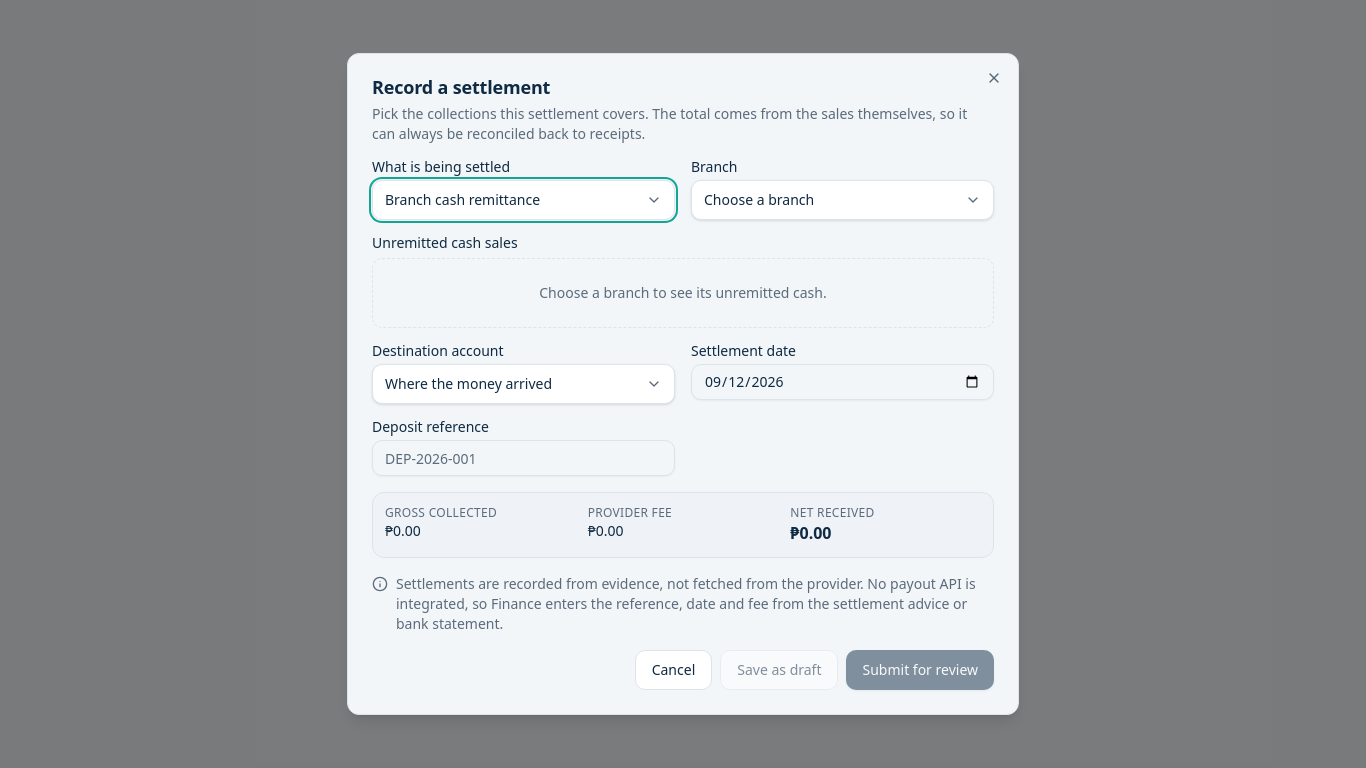
it: picking the collections › turns into Clear all once everything is ticked
Press ArrowDown in the dropdown labelled "branch", box [691, 180, 994, 220]
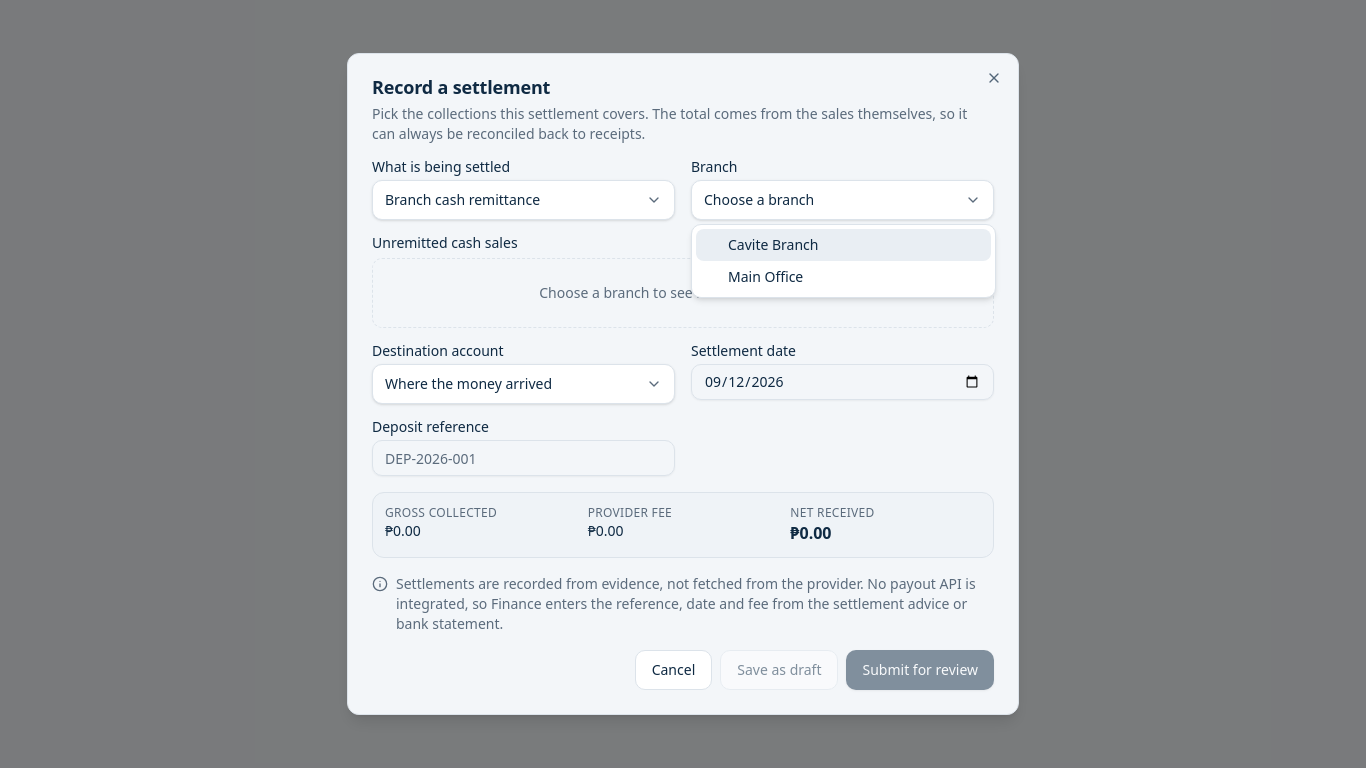
Click the option "Cavite Branch".
click(773, 244)  # box [696, 229, 991, 261]
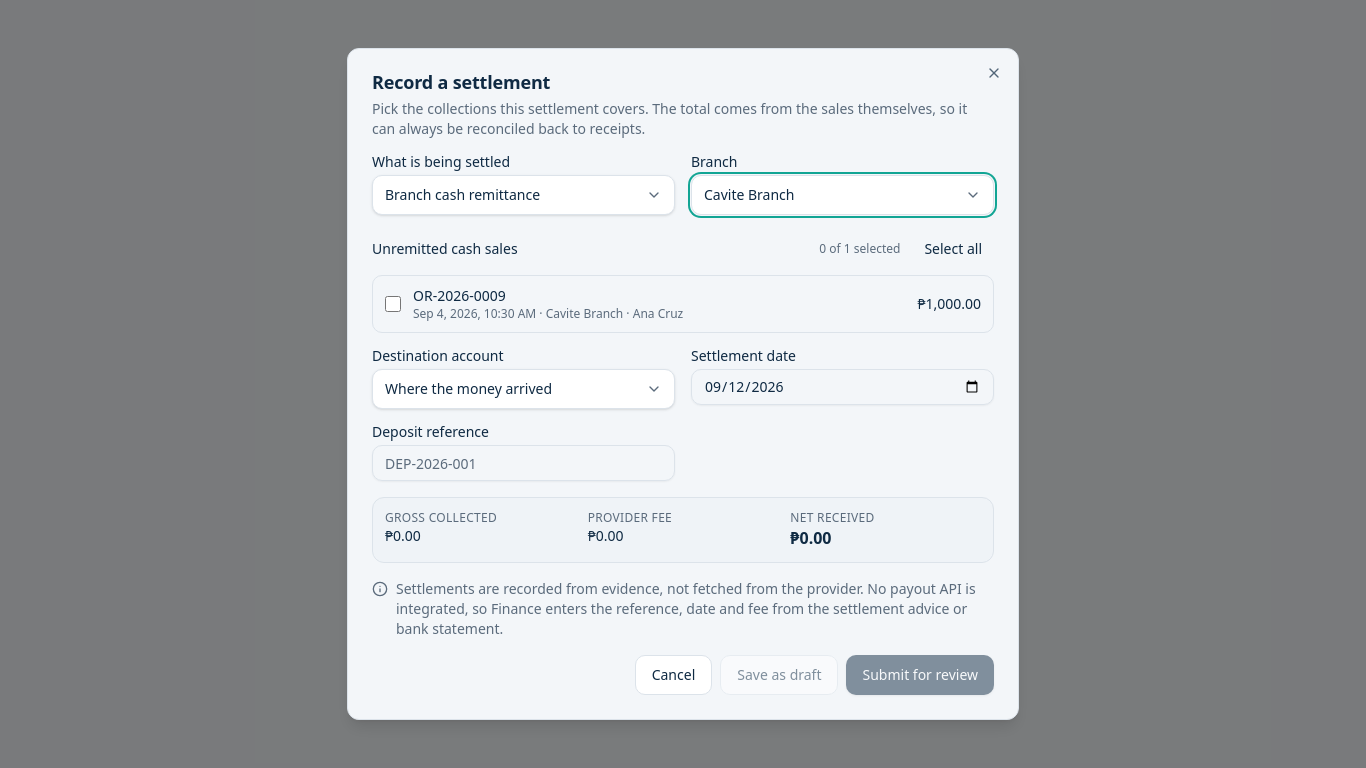
Click the button "Select all".
click(953, 249)  # box [912, 231, 994, 267]
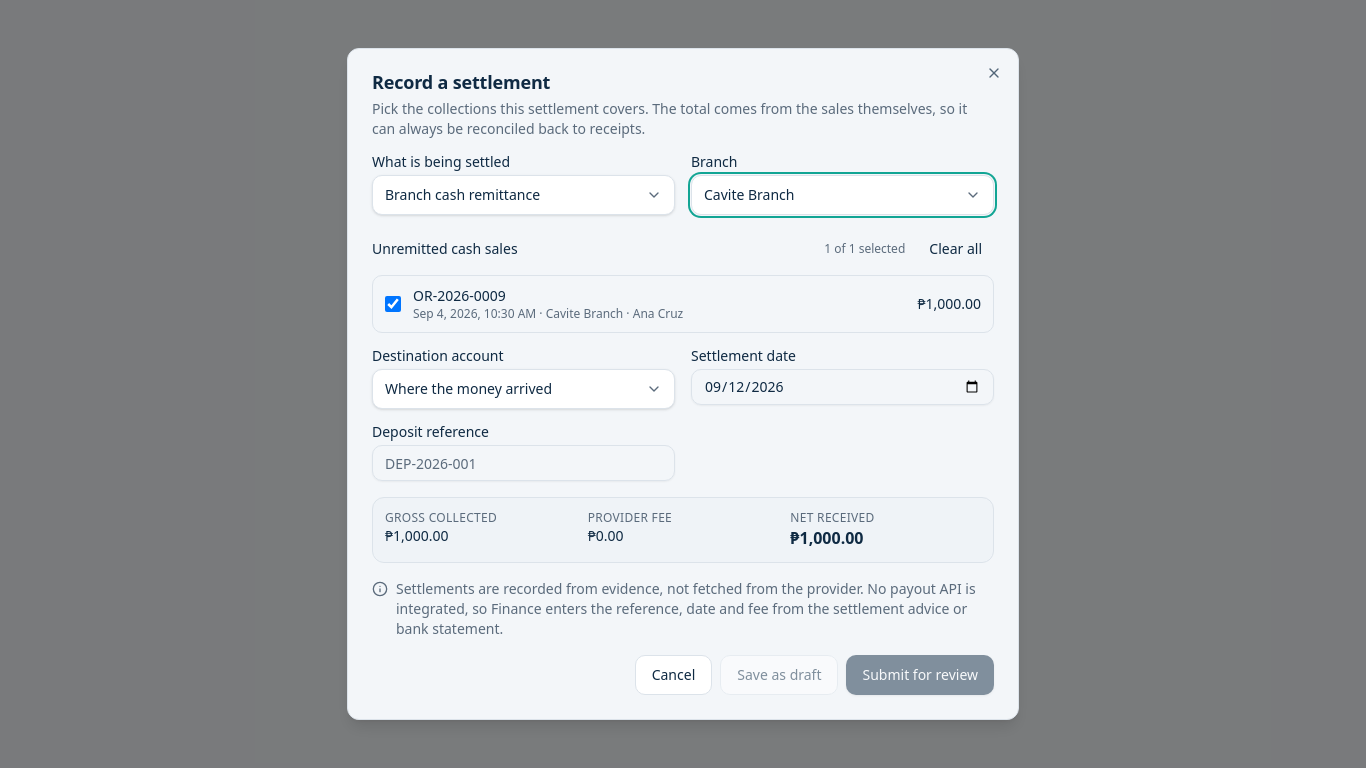
Click the button "Clear all".
click(956, 249)  # box [917, 231, 994, 267]
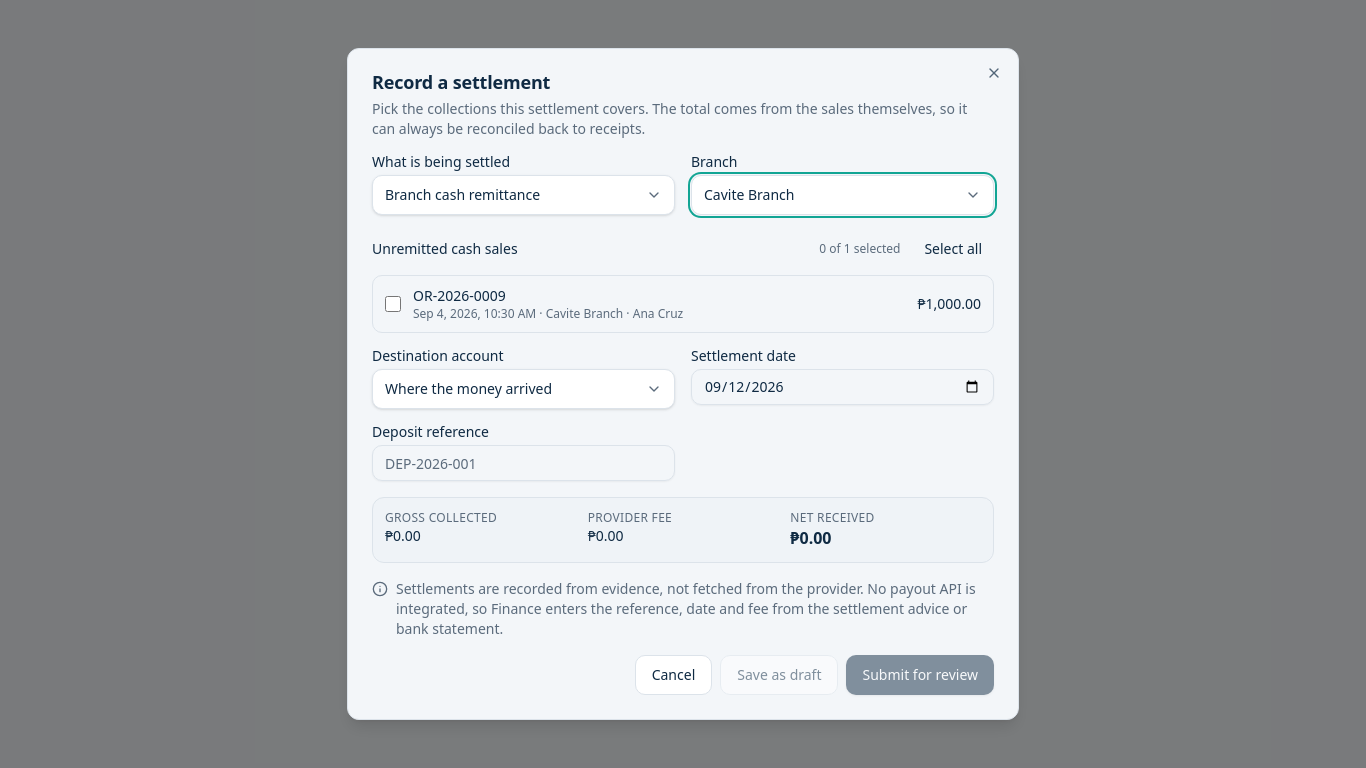
Check: the checkbox is not checked, box [385, 296, 401, 312]
Check: the text "0 of 1 selected" is shown, box [819, 241, 900, 257]
